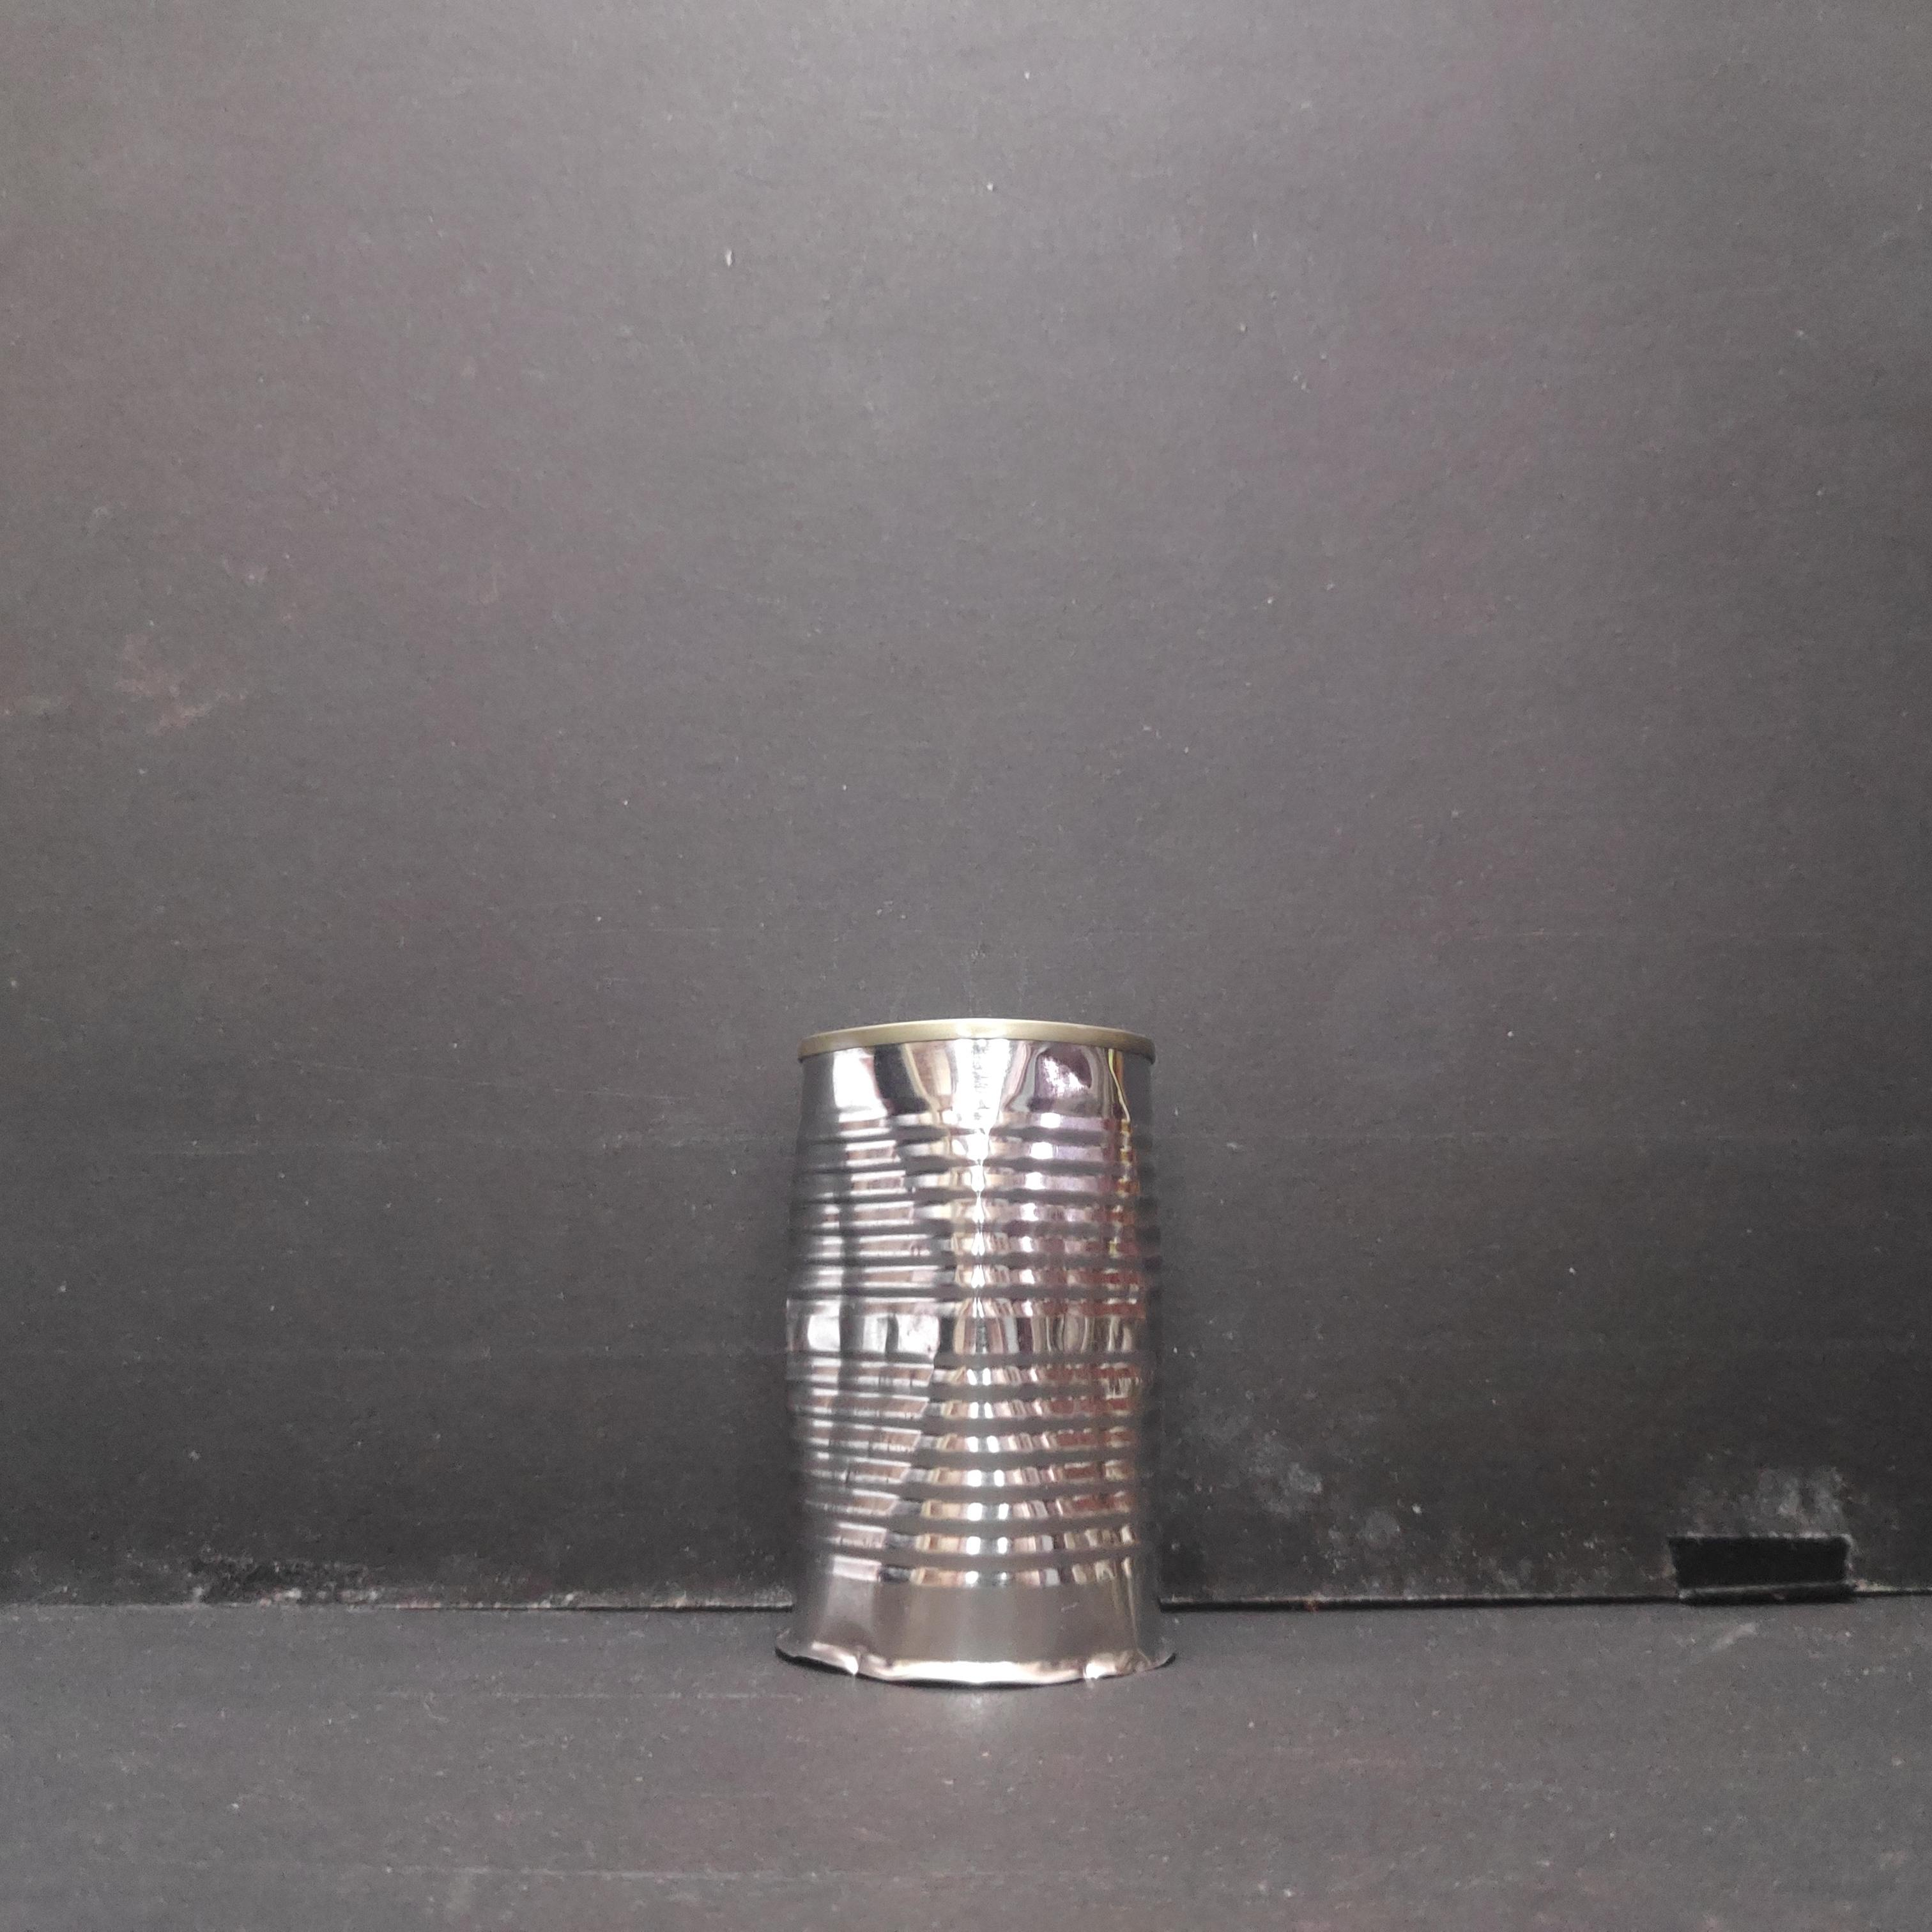Minor Defect: (768, 1010, 1184, 1695)
